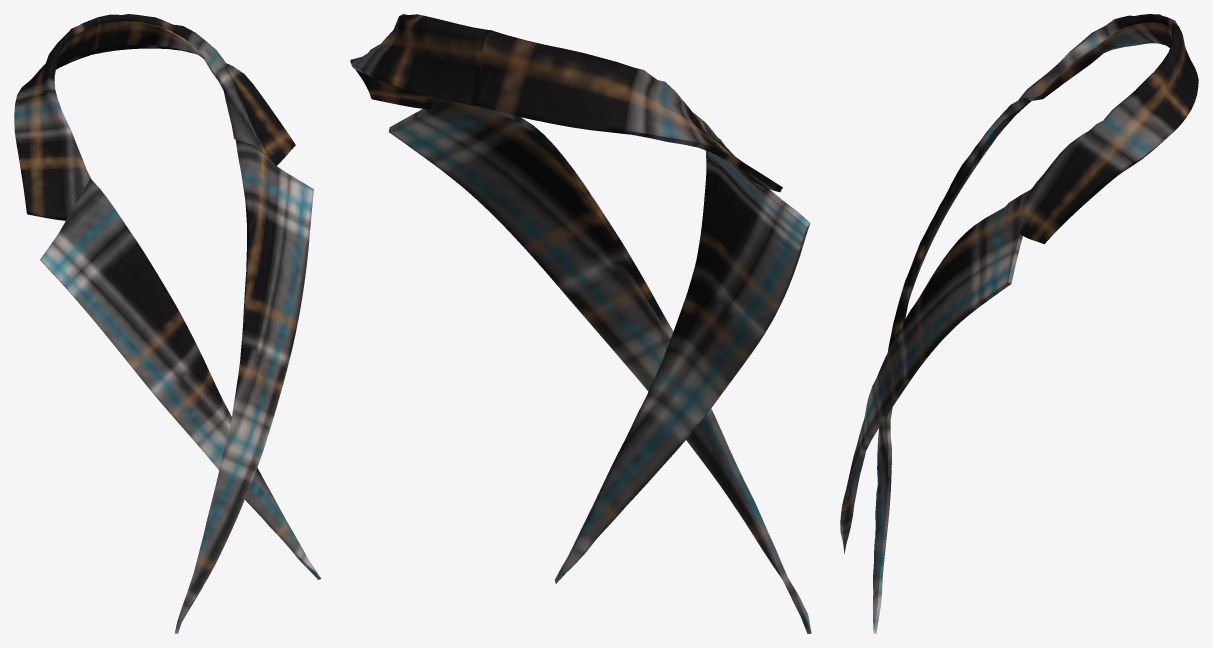
The model's file is notchdb.glb.
3 renders of one model, left to right at view 1: azimuth 30°, elevation 25°; view 2: azimuth 150°, elevation 25°; view 3: azimuth 270°, elevation 25°, orthographic. The views are drawn at different scales.
Parts seen in each view (by area): view 1: lapel (×5), notchdb_4; view 2: lapel (×4); view 3: lapel (×5).
Boxes of the visible parts, x1,y1,x2,y2 form: lapel (×5): (14, 14, 321, 633); notchdb_4: (96, 21, 234, 139); lapel (×4): (350, 14, 811, 633); lapel (×5): (840, 14, 1198, 633).
Bounding box in the file's own units: 252 × 428 × 248.
6 materials, 6 textured.
